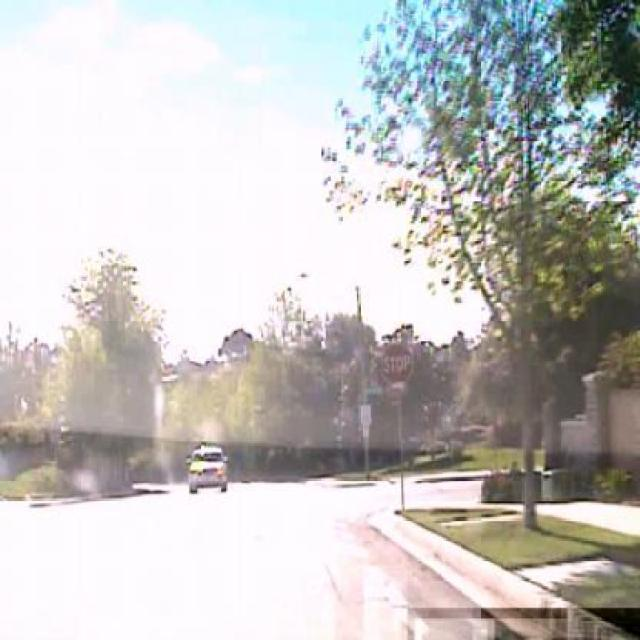stop: (378, 346, 418, 386)
